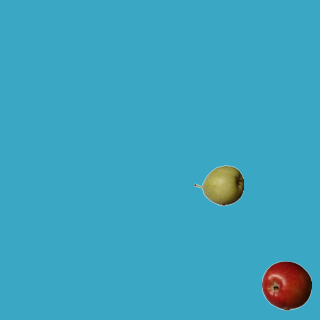Apple Braeburn: (261, 260, 311, 310)
Pear: (193, 160, 243, 210)
